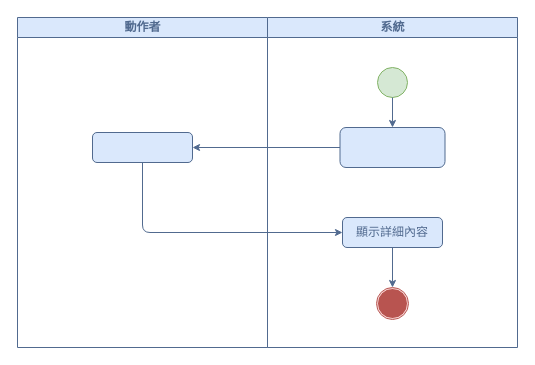
Some shapes in this 535 by 365 pixel diagram are drawn without their labels. The shapes that lost their labels are listed below. From the top down, each one's centre as x and y in pixels, then its label:
At (x=142, y=147): "點選任一條目".
At (x=392, y=147): "顯示最新消息".
